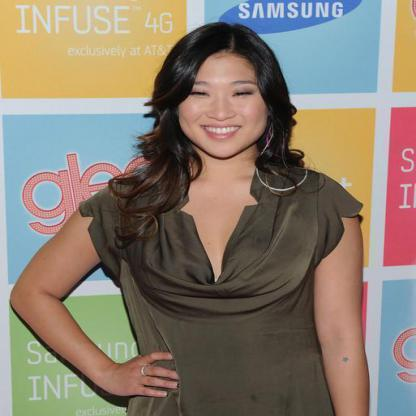long-hair: (134, 160, 306, 182)
